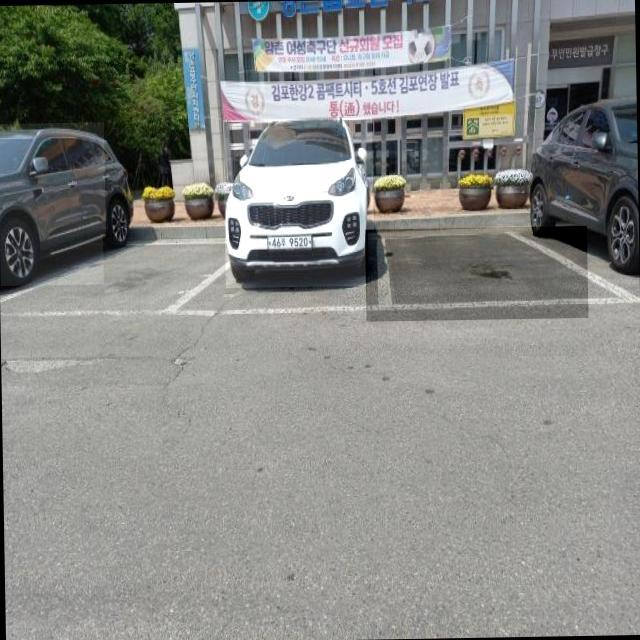empty: (364, 226, 588, 322), (102, 235, 214, 320)
occupied: (222, 118, 374, 288), (0, 121, 106, 285)
